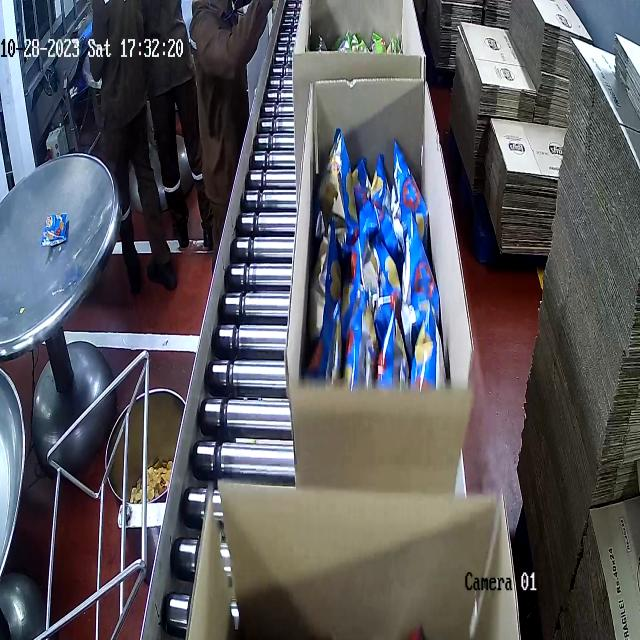PAPRIKA: (311, 130, 438, 386)
